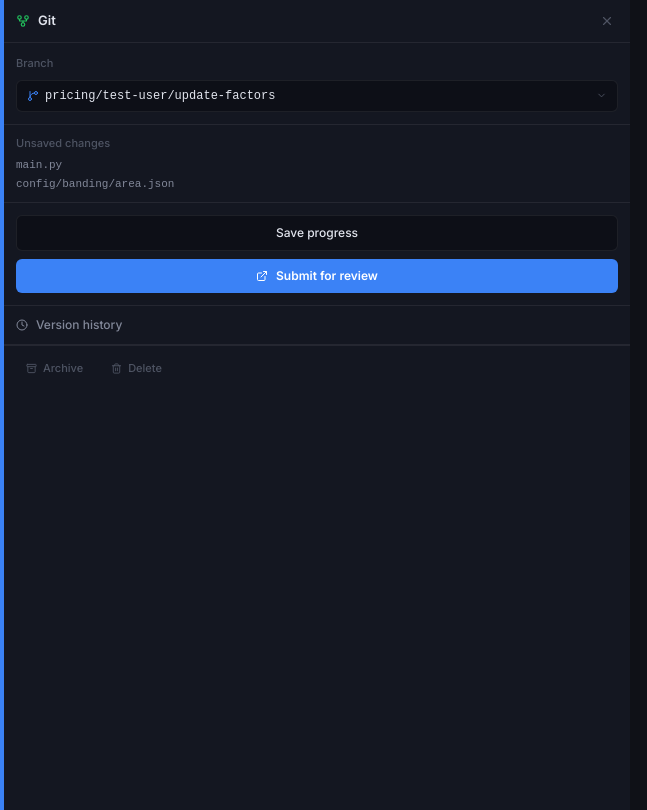
Test: GitPanel › loads history on toggle
The width and height of the screenshot is (647, 810).
Step 1. Click the button "Version history" → (69, 325), box [16, 316, 122, 334]
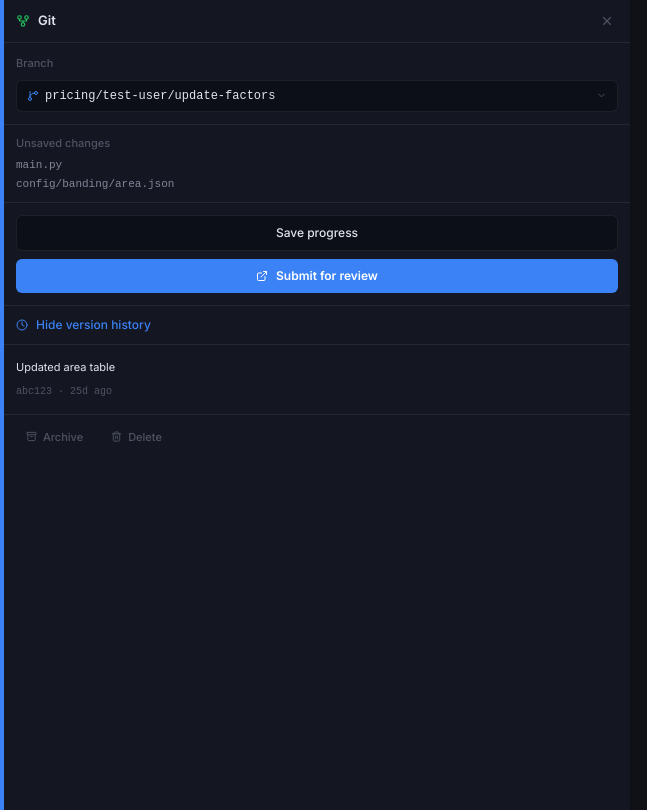
Now the text "Updated area table" is shown, box [16, 360, 115, 374]
